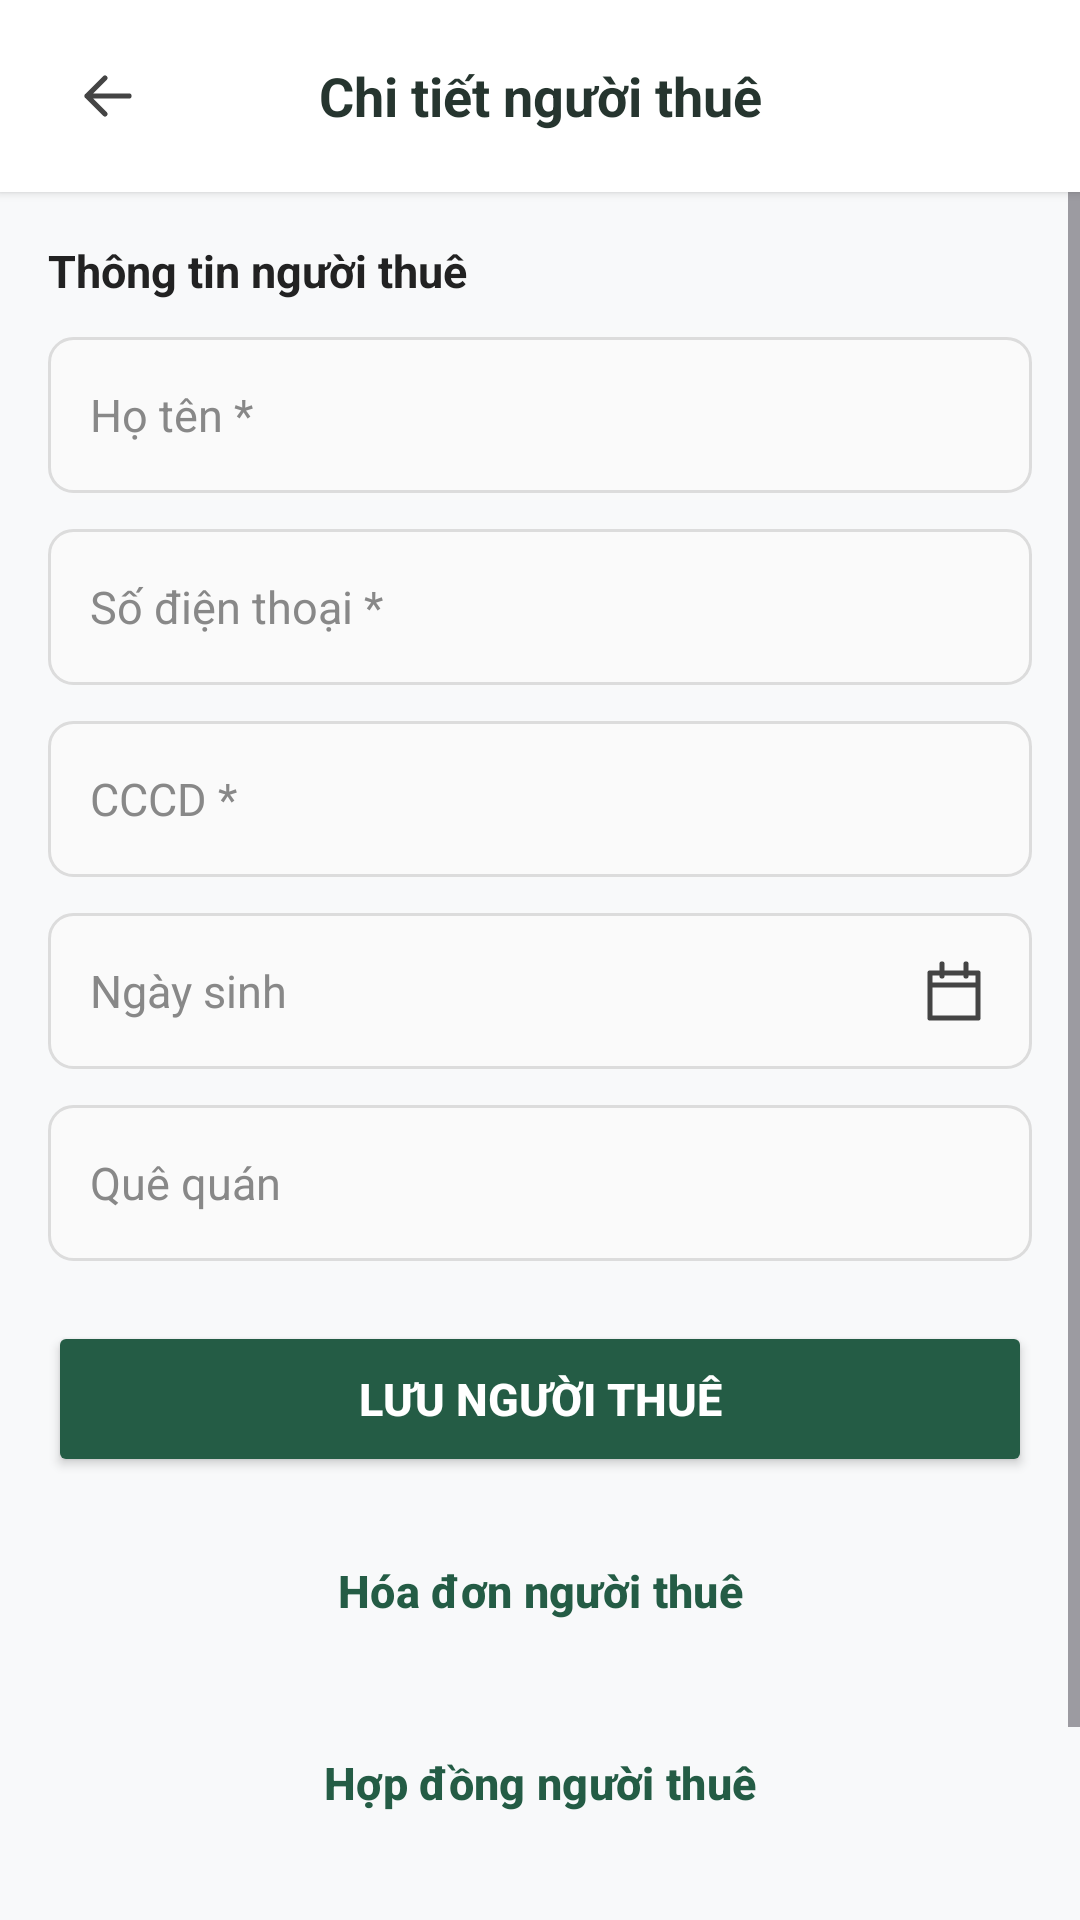

Locate icon controls on the screen. Image size 1080px x 1920px, boxes as (left=x1, top=y1, right=x2, bottom=y2).
Quay lại: (left=84, top=75, right=132, bottom=117)
